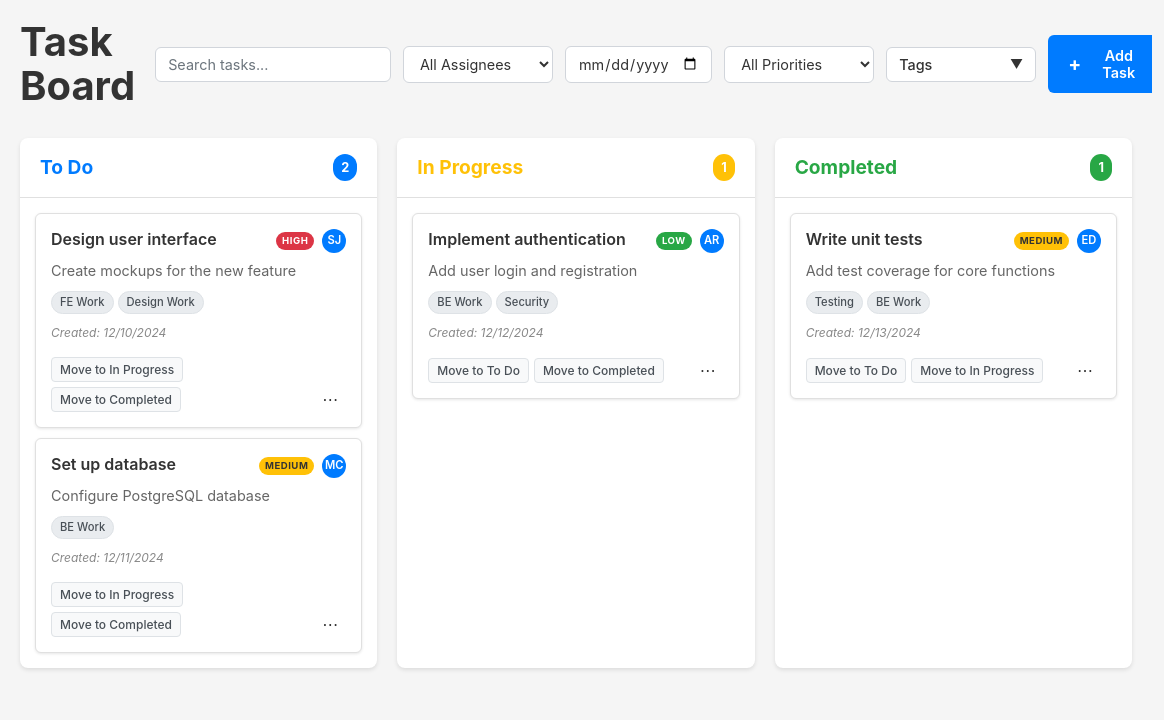
Scenario: TaskBoard Component › search filters tasks by title or description
Type "authentication" into the field with placeholder "Search tasks...".
click(273, 64); type("authentication")  # box [155, 46, 391, 82]
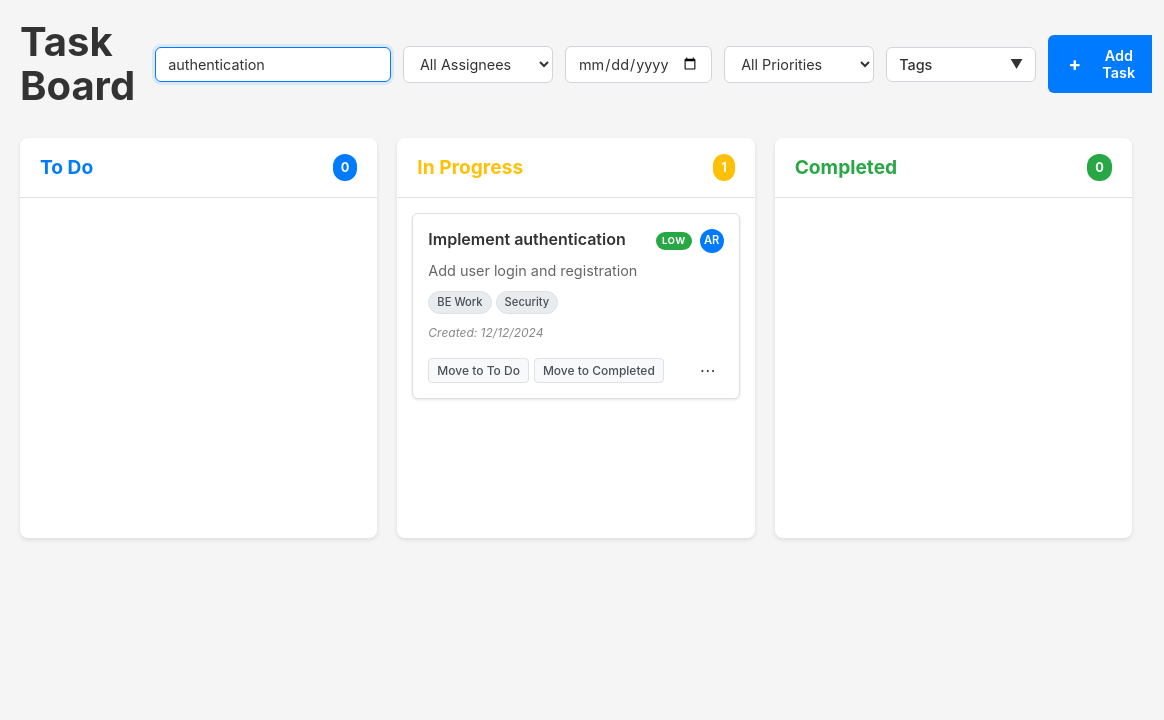
Expected: the heading "Implement authentication" is shown, [428, 229, 648, 250]
Now the heading "Design user interface" is gone
